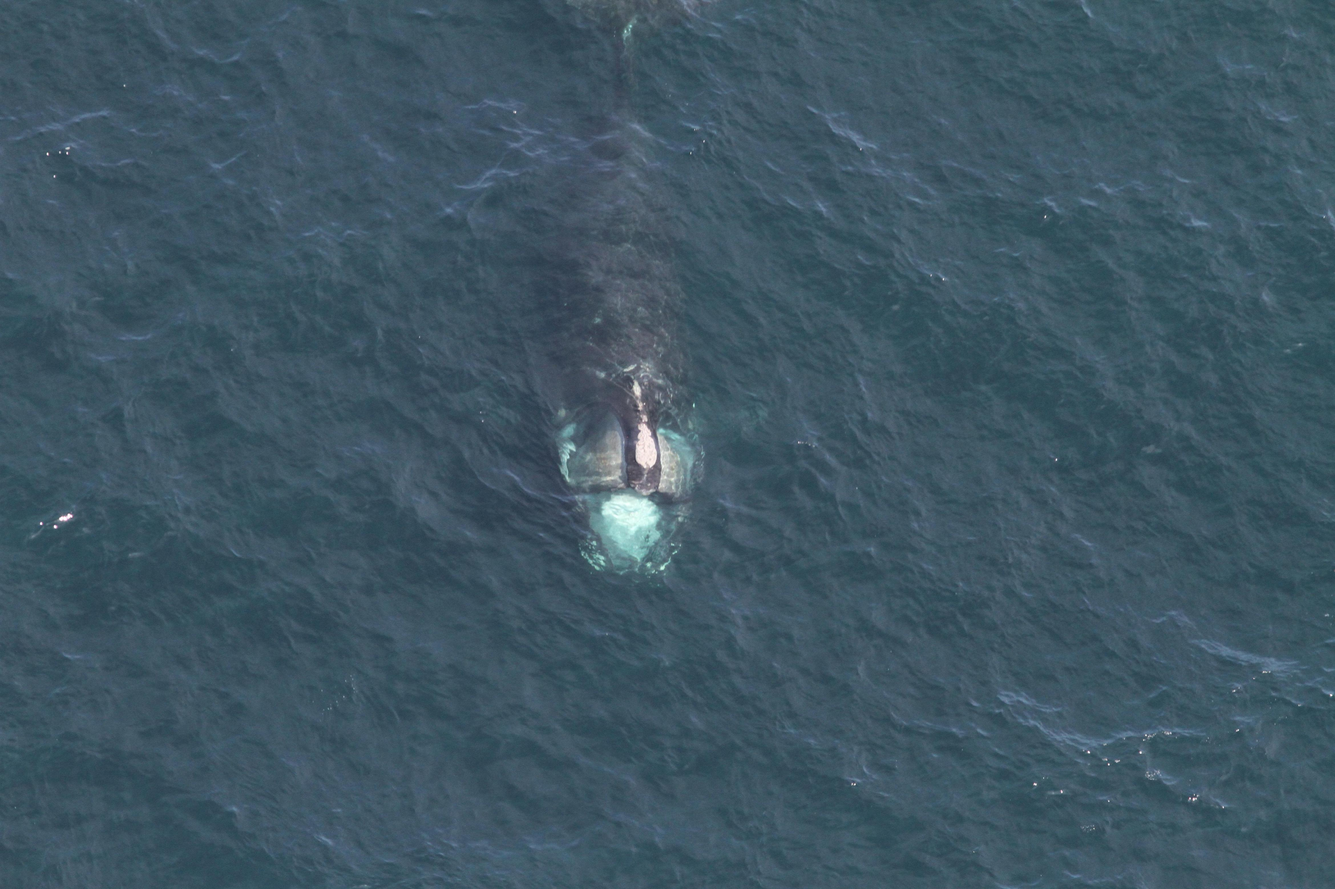whale: (514, 0, 746, 581)
